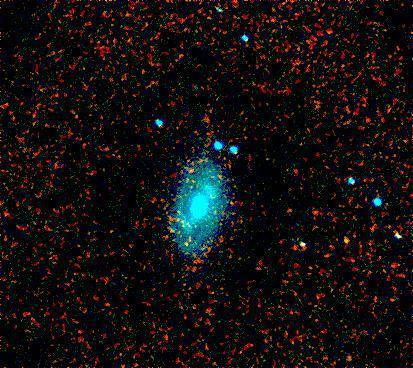star: (332, 222, 362, 252)
